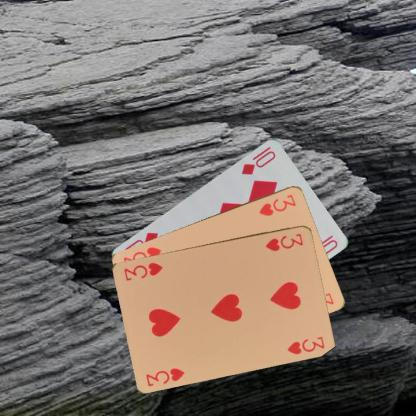10d: (239, 144, 277, 176)
3h: (257, 191, 298, 217), (143, 364, 186, 388), (263, 230, 304, 252)
